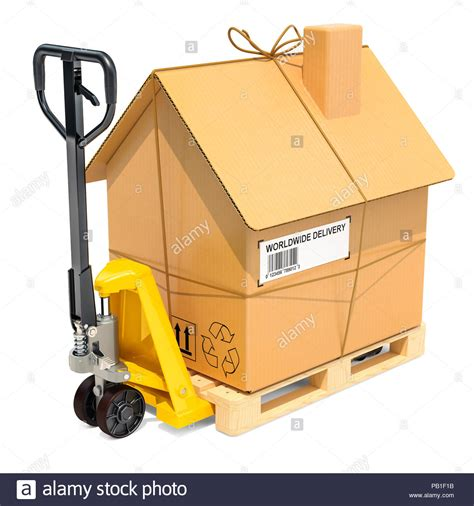Pallet Jack: (32, 43, 424, 440)
